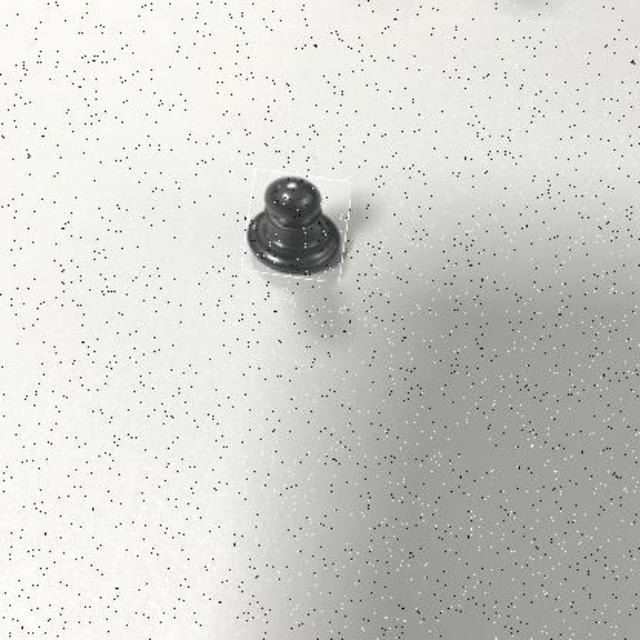black-pawn: (245, 172, 349, 279)
